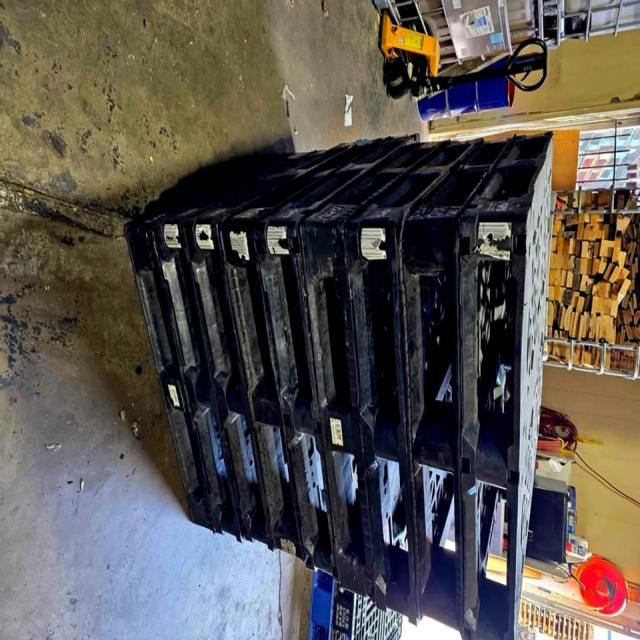igps: (457, 122, 564, 640), (336, 205, 429, 640), (250, 210, 346, 590), (120, 214, 228, 544), (179, 209, 279, 561), (290, 217, 379, 608), (145, 215, 247, 550), (218, 215, 313, 564), (393, 210, 470, 640)
